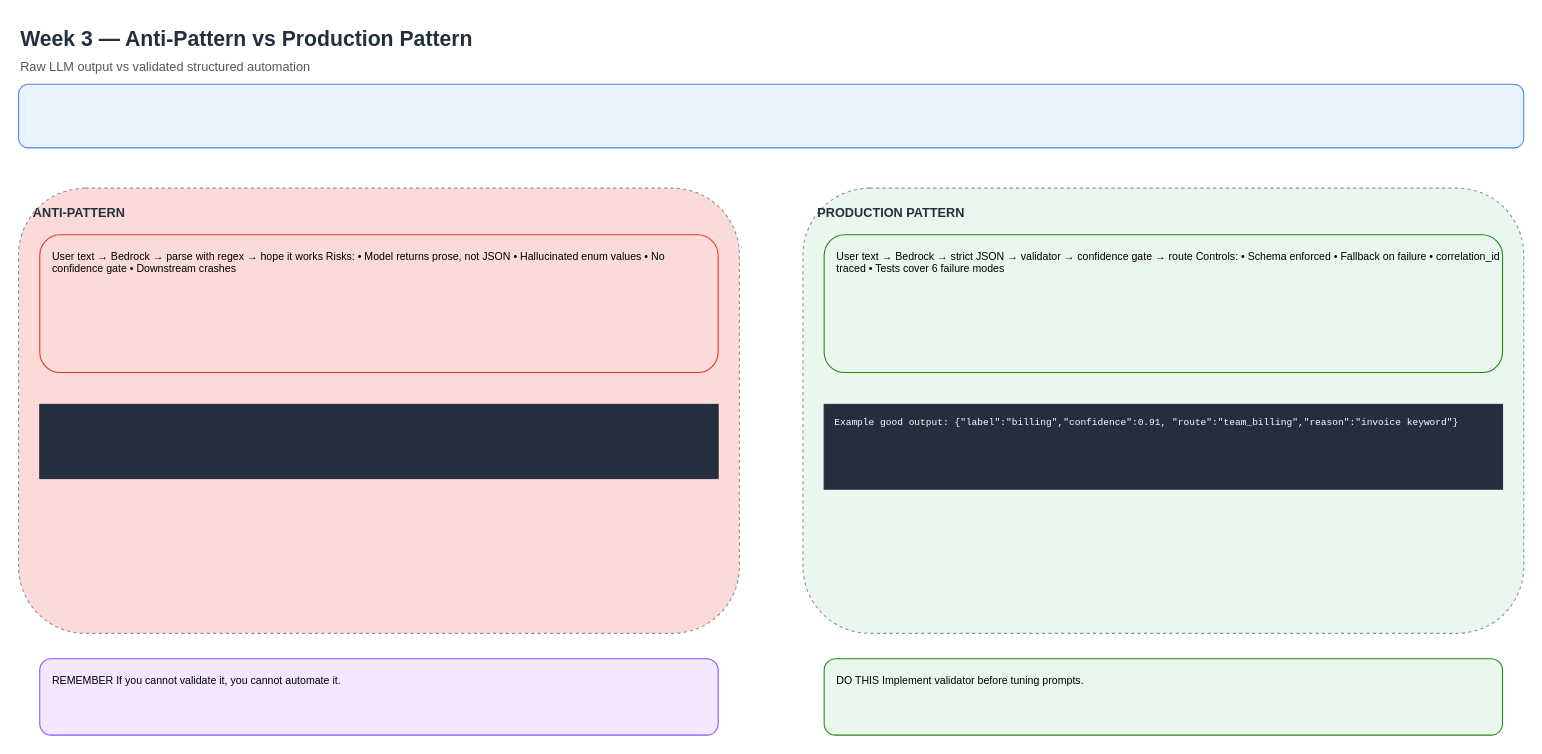
This 1542x754 diagram has some shape labels left out. Here are the shapes that lost their labels. From the top down, the centre of each, then its label:
point 770,115: YOUR GOAL See why validation is non-optional in enterprise automation.
point 378,441: Example bad output: "I think this is probably billing related..."
